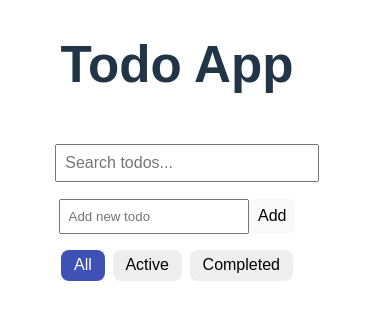
Test: App.vue integration test › adds, edits, toggles and delete a todo
Type "Learn Vue Testing" into the field with test id "todo-input" at (154, 217), box [58, 199, 249, 234]
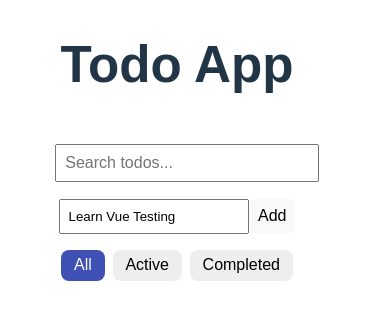
Submit the form, box [55, 198, 299, 234]
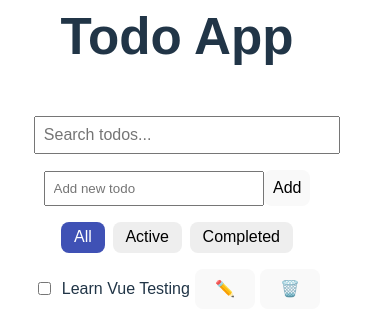
Expected: the text "Learn Vue Testing" is shown, [62, 277, 190, 301]
Note: ✅ TOGGLE
Click the checkbox labelled "Learn Vue Testing" at (44, 289), box [38, 282, 51, 295]
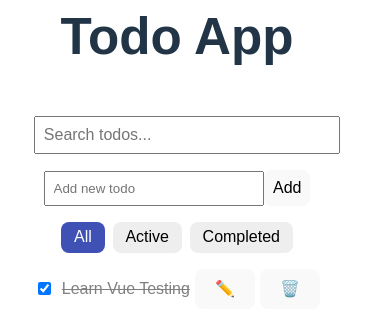
Expected: the checkbox labelled "Learn Vue Testing" is checked, [38, 282, 51, 295]
Click the button with test id "edit" at (225, 289), box [195, 269, 255, 309]
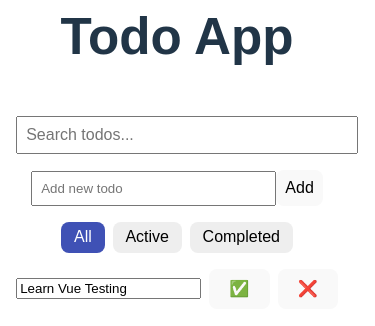
Replace the text in the field with test id "edit-input" with "Learn Vue 3 Testing" at (109, 289), box [16, 278, 201, 299]
Press Enter in the field with test id "edit-input", box [16, 278, 201, 299]
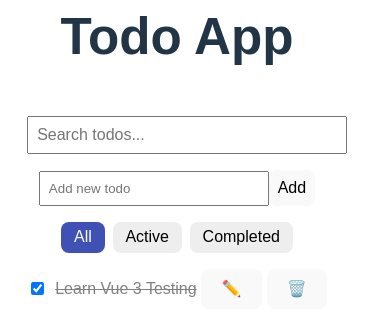
Expected: the text "Learn Vue Testing" is not shown
Expected: the text "Learn Vue 3 Testing" is shown, [55, 277, 196, 301]
Note: ✅ DELETE
Click the button with test id "remove" at (297, 289), box [266, 269, 327, 309]
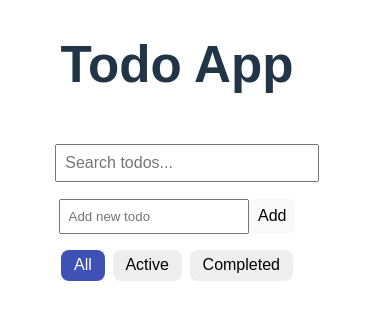
Expected: the text "Learn Vue 3 Testing" is gone
